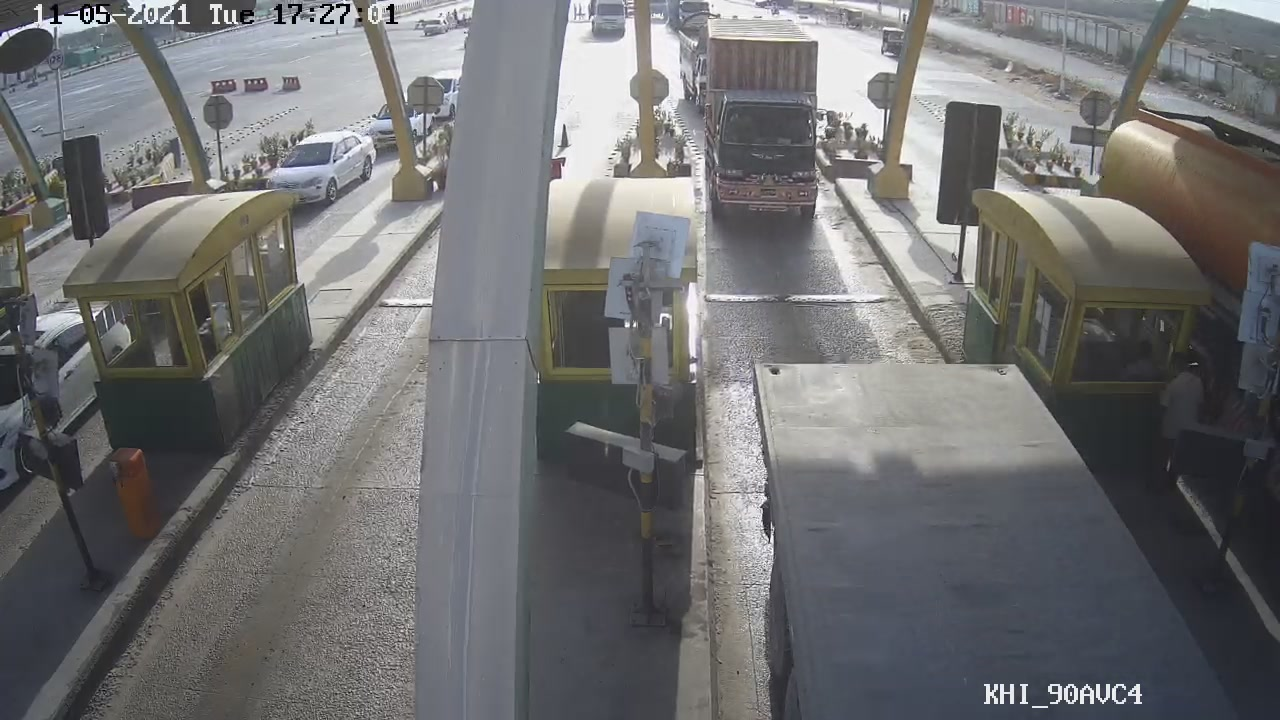F6: (691, 27, 848, 235)
